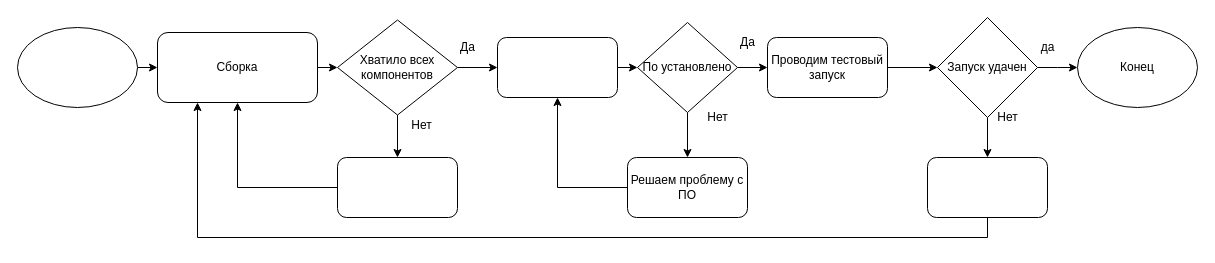
Image size: 1215x263. Some labels were removed from this diagram. Each missing label, with the centre of its shape:
Докупаем: (397,187)
Настройка: (557,67)
Начало: (77,67)
Проверяем всю систему: (987,187)
